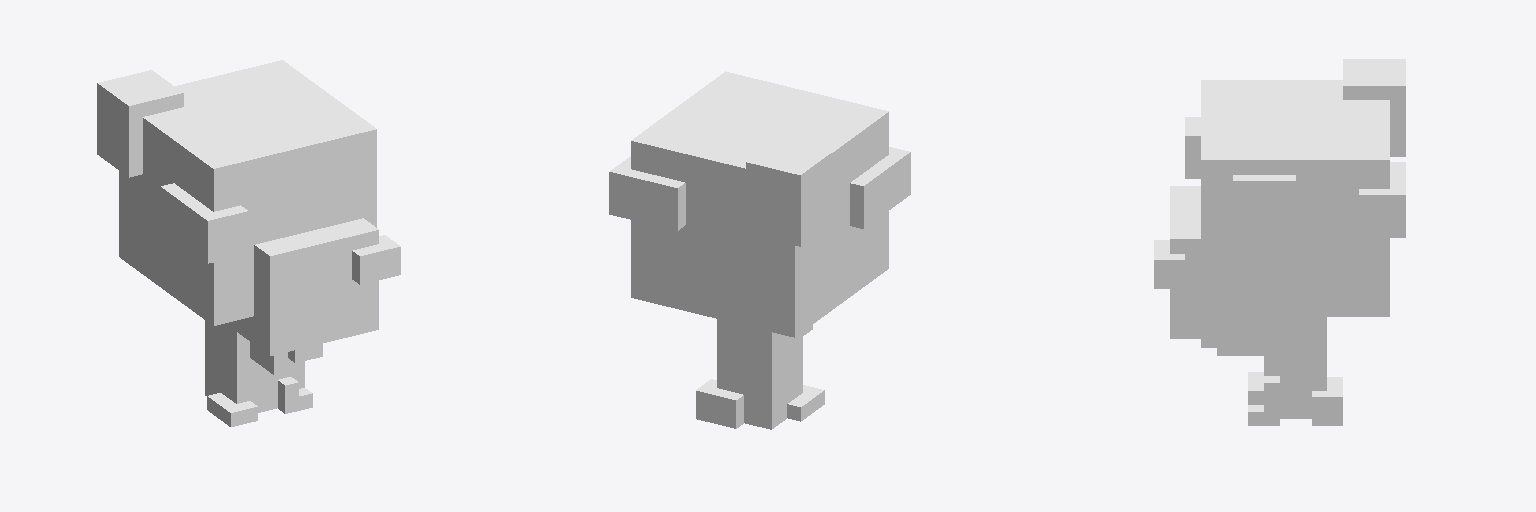
Rendered from Bush2-2.obj.
3 views of the same model, side by side, from view 1: azimuth 30°, elevation 25°; view 2: azimuth 150°, elevation 25°; view 3: azimuth 270°, elevation 25° (orthographic).
Visible parts, largest first — view 1: object 1; view 2: object 1; view 3: object 1.
Boxes of the visible parts, x1=… form: object 1: x1=97, y1=60, x2=400, y2=426; object 1: x1=609, y1=71, x2=910, y2=429; object 1: x1=1154, y1=59, x2=1405, y2=425.
Bounding box in the file's own units: 1.4 × 2.1 × 1.6.